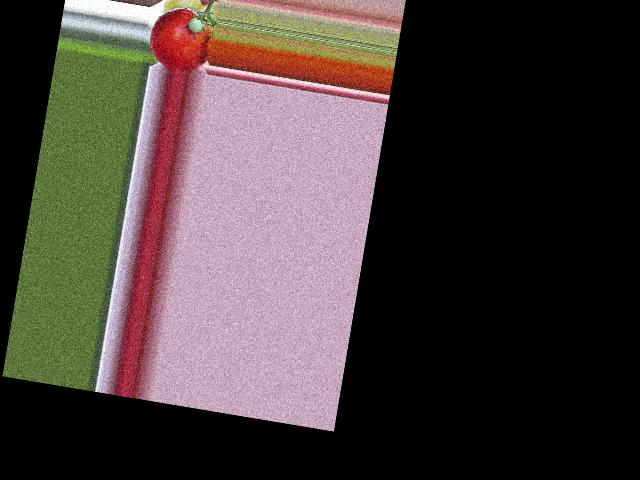tomato: (146, 3, 214, 75)
